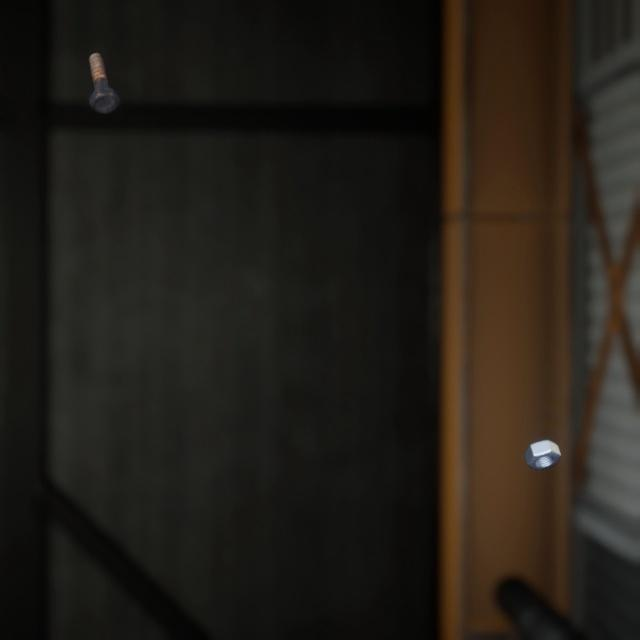bolt: (84, 38, 124, 107)
nut: (519, 414, 565, 454)
